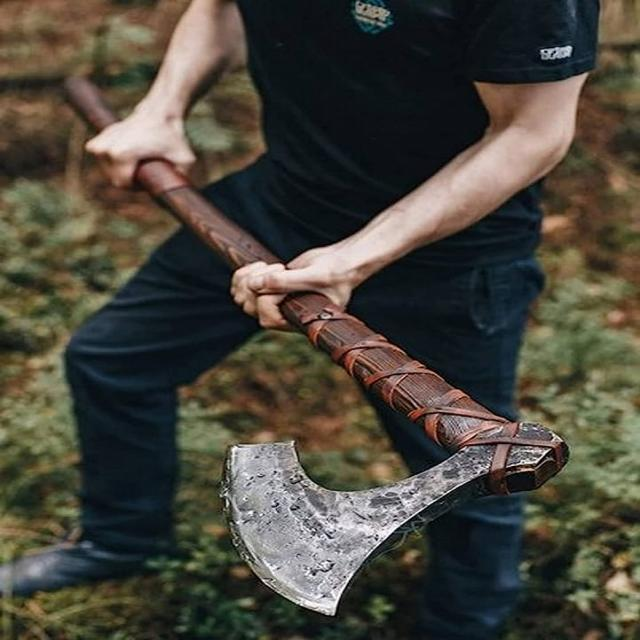axe: (66, 87, 567, 620)
